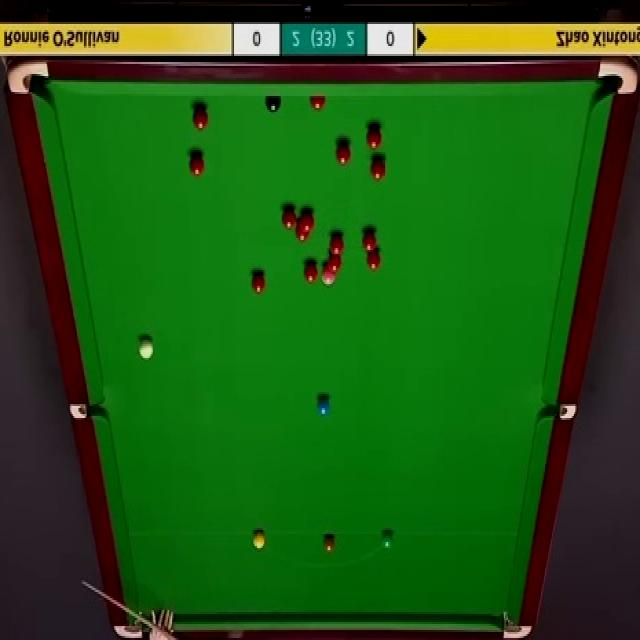black-ball: (265, 94, 281, 114)
blue-ball: (316, 394, 329, 416)
brown-ball: (324, 532, 335, 551)
green-ball: (381, 530, 396, 550)
pink-ball: (321, 271, 336, 288)
red-ball: (192, 104, 210, 132), (366, 126, 383, 152), (280, 206, 297, 231), (335, 142, 350, 168), (299, 209, 315, 233), (189, 153, 204, 178), (366, 249, 382, 272), (362, 228, 377, 252), (250, 272, 266, 294), (370, 158, 385, 181), (328, 234, 344, 255), (309, 95, 326, 114), (304, 263, 318, 284), (327, 257, 342, 272), (294, 228, 310, 242)
white-ball: (139, 336, 154, 362)
yellow-ball: (252, 532, 266, 551)
